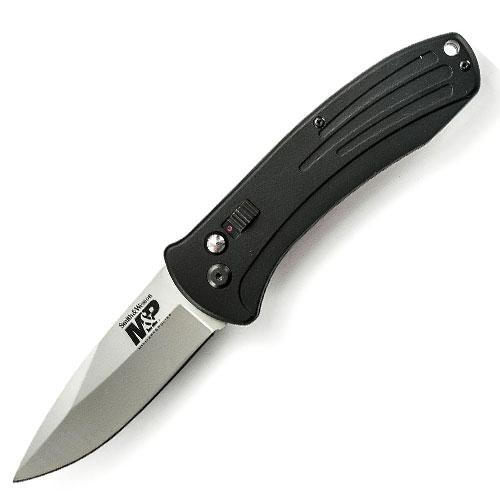knief: (23, 34, 485, 485)
